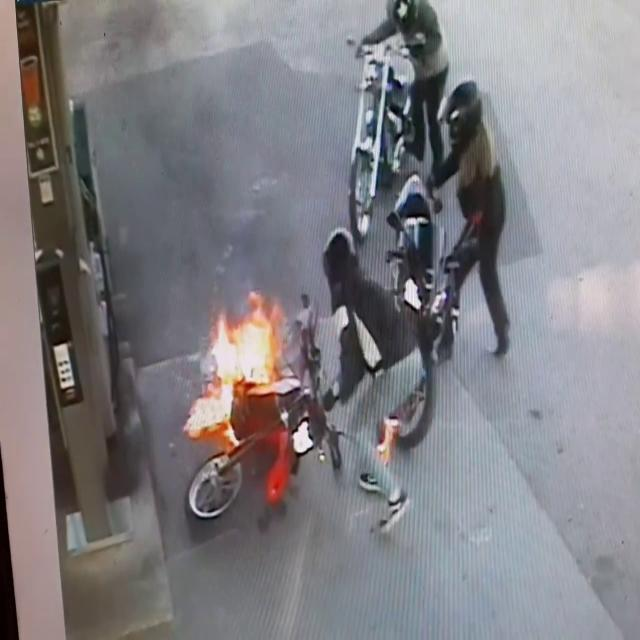Fire: (185, 294, 292, 438), (376, 408, 396, 470)
Smoke: (68, 2, 306, 298)
